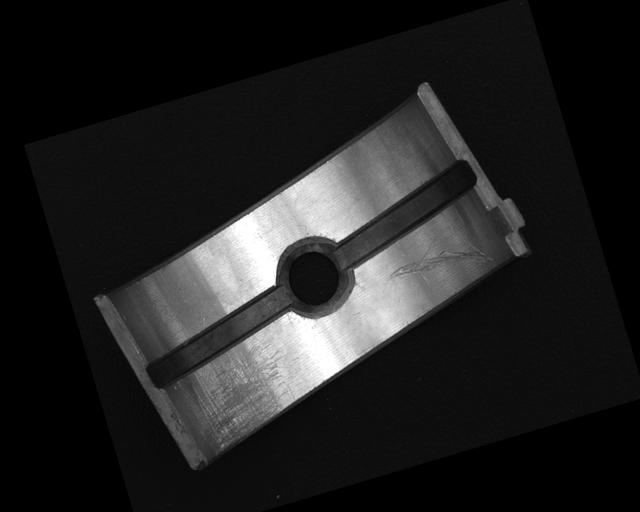gap: (319, 157, 491, 274), (133, 285, 306, 391)
hole: (270, 231, 359, 323)
nick: (379, 221, 497, 294)
scratch: (177, 335, 303, 460)
